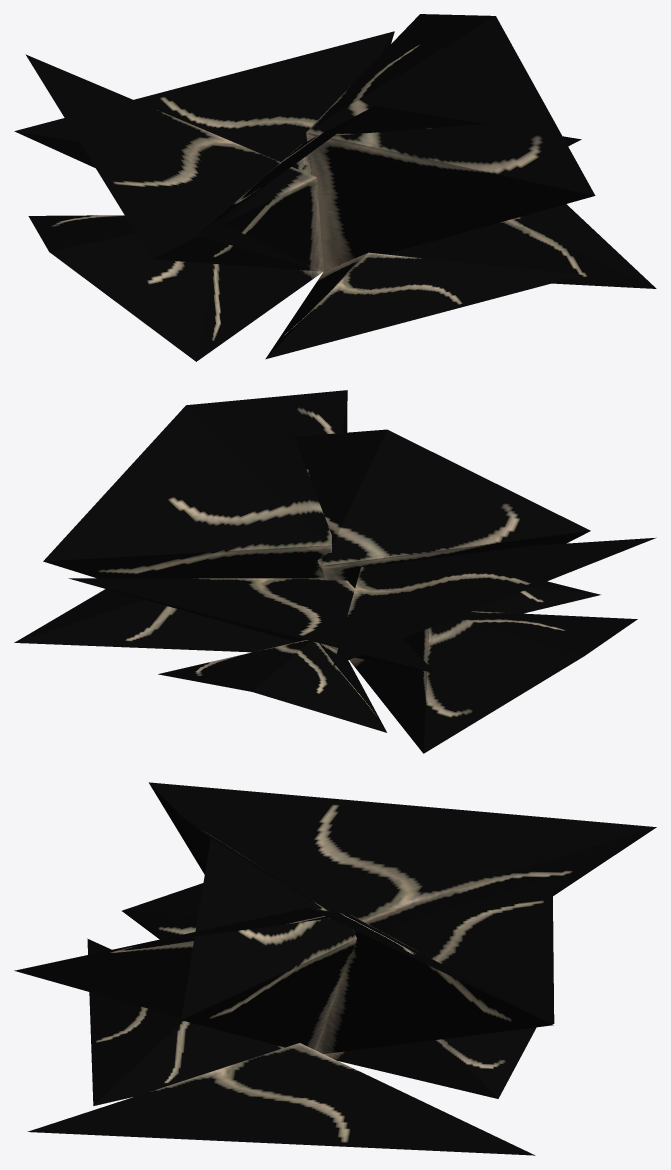
File: naflbu13.dae
3 renders of one model, top to bottom at view 1: azimuth 30°, elevation 25°; view 2: azimuth 150°, elevation 25°; view 3: azimuth 270°, elevation 25°, orthographic. The views are drawn at different scales.
Visible parts, largest first — view 1: crown; view 2: crown; view 3: crown.
Boxes of the visible parts, box(x1,y1,x2,y2) form: crown: box(14, 14, 656, 361); crown: box(14, 390, 656, 753); crown: box(14, 782, 656, 1155).
Size of the model in its own units: 1.46 by 1.46 by 0.5982.
1 material, 1 textured.
